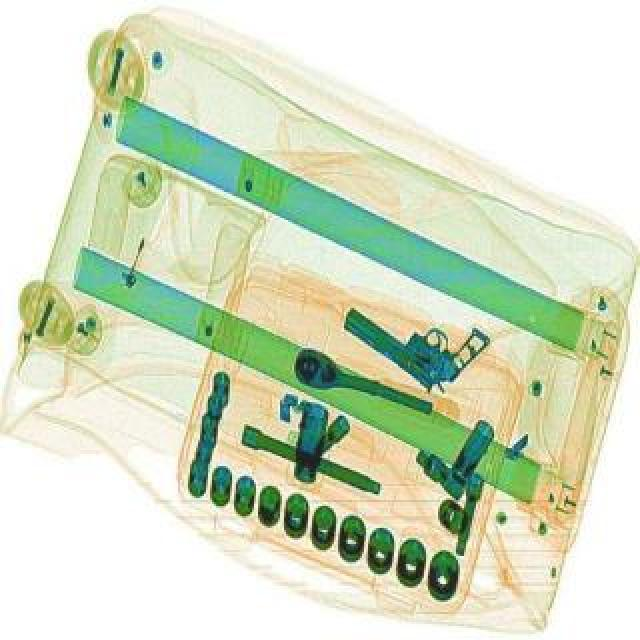gun: (334, 258, 498, 402)
